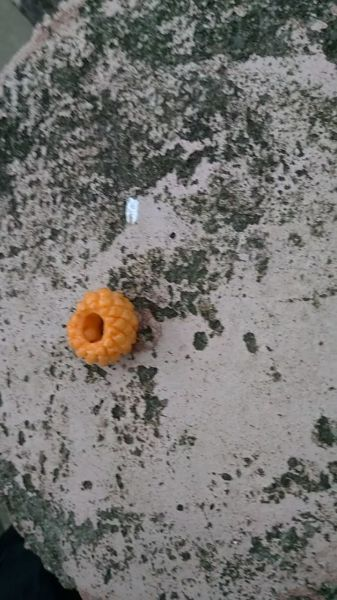eggs: (63, 283, 142, 371)
